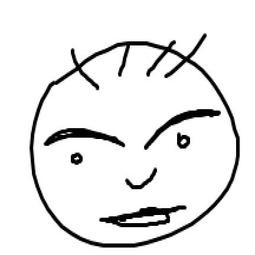eyebrow: (43, 126, 128, 151)
frowning_eyebrow: (143, 107, 223, 151)
nose: (123, 163, 160, 194)
open_mouth: (98, 205, 185, 231)
small_eye: (176, 131, 191, 153), (69, 151, 83, 171)
